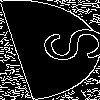S: (25, 25, 100, 67)
